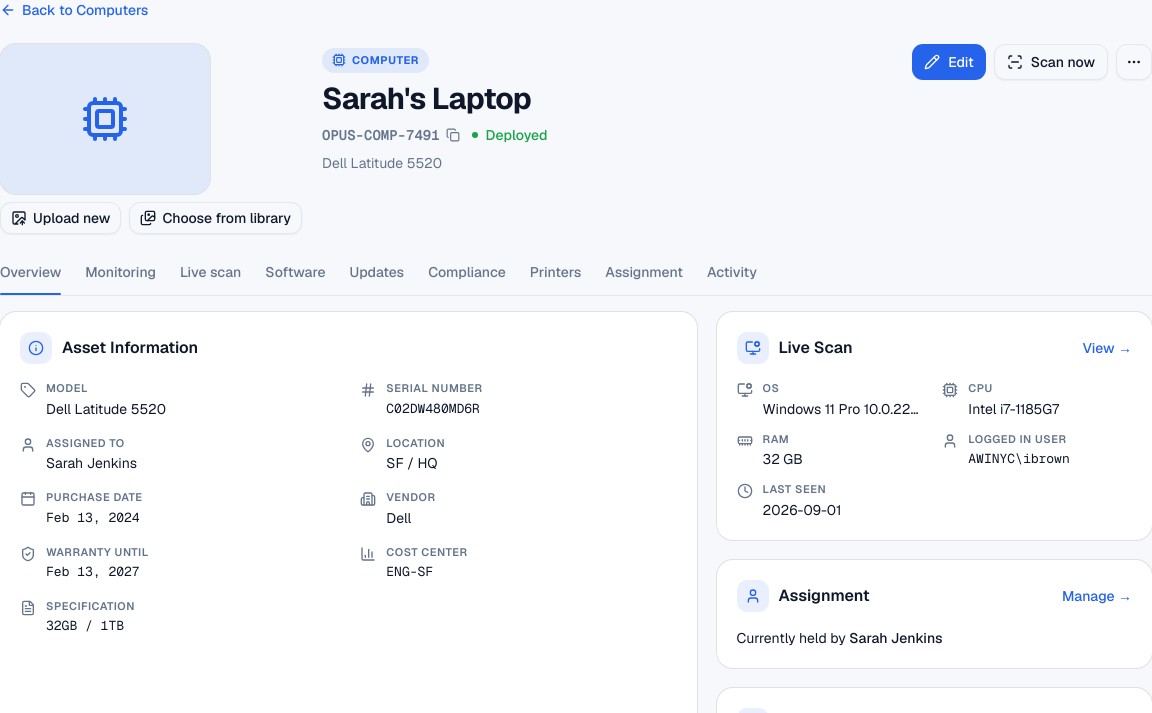
Test: ComputerDetail — tabs + content (AC-4.2, AC-4.3) › queues assist on 202 and shows the polled result
The width and height of the screenshot is (1152, 713).
Click the tab "Monitoring": (121,277) [85,258,156,296]
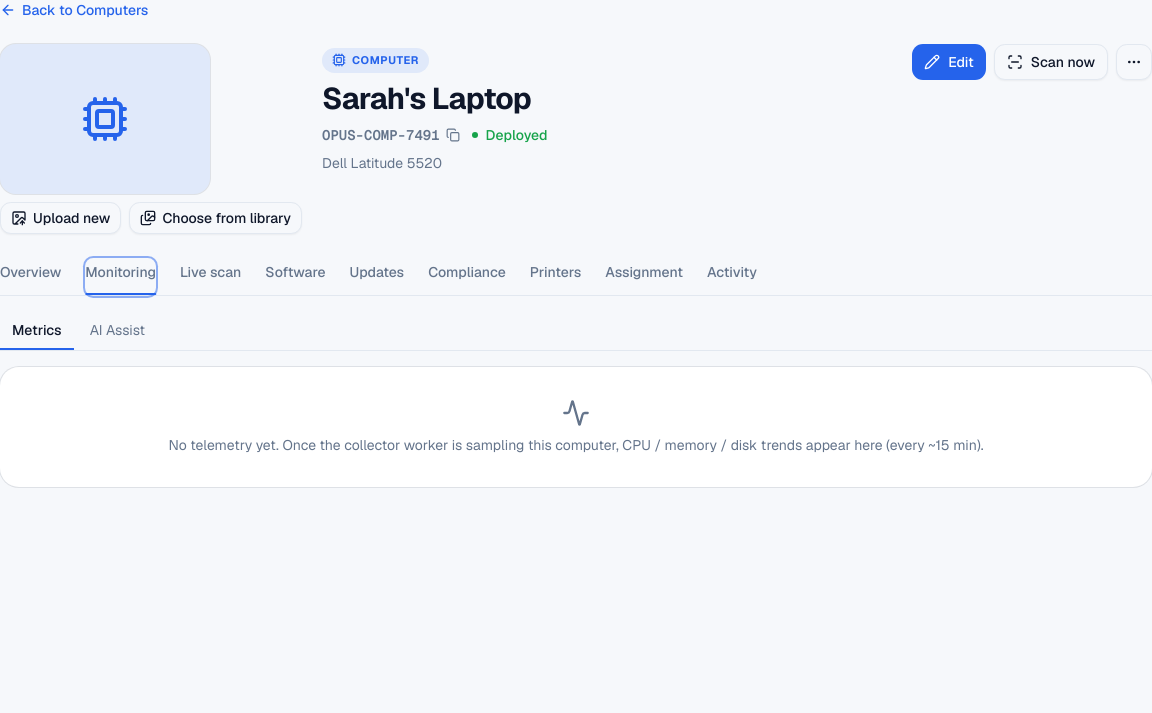
Click the tab "AI Assist": (117,331) [78,312,157,350]
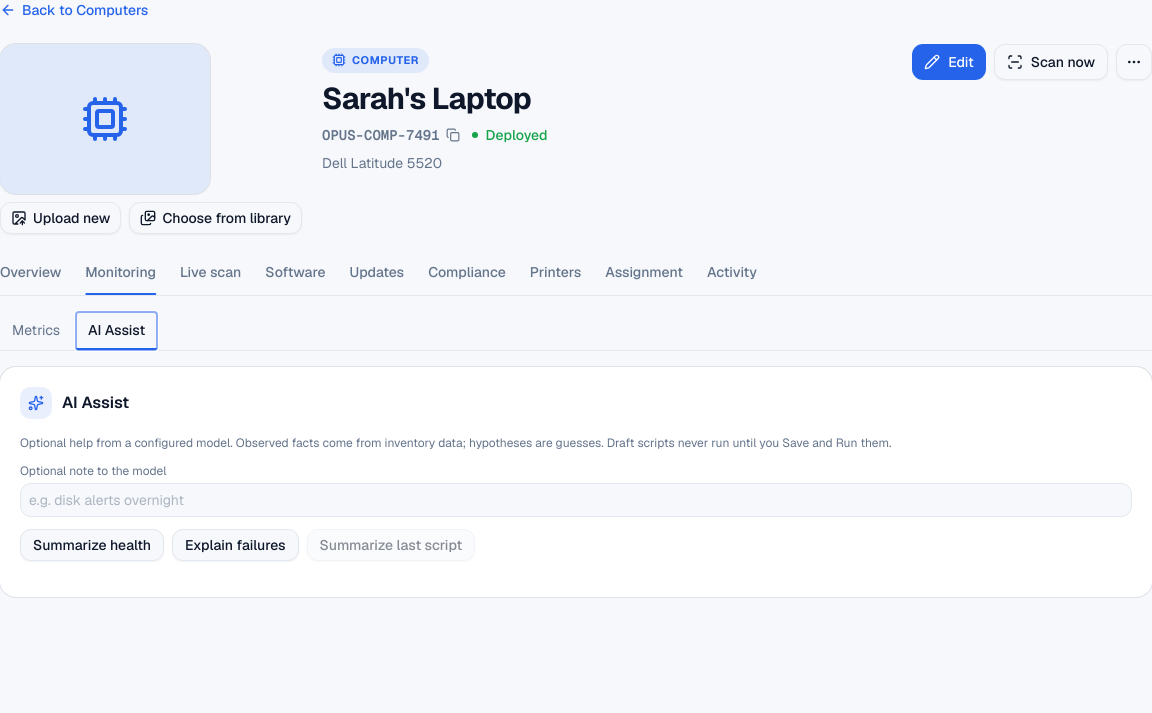
Click the button "Summarize health": (92,545) [20,529,164,561]
(page scrolled)
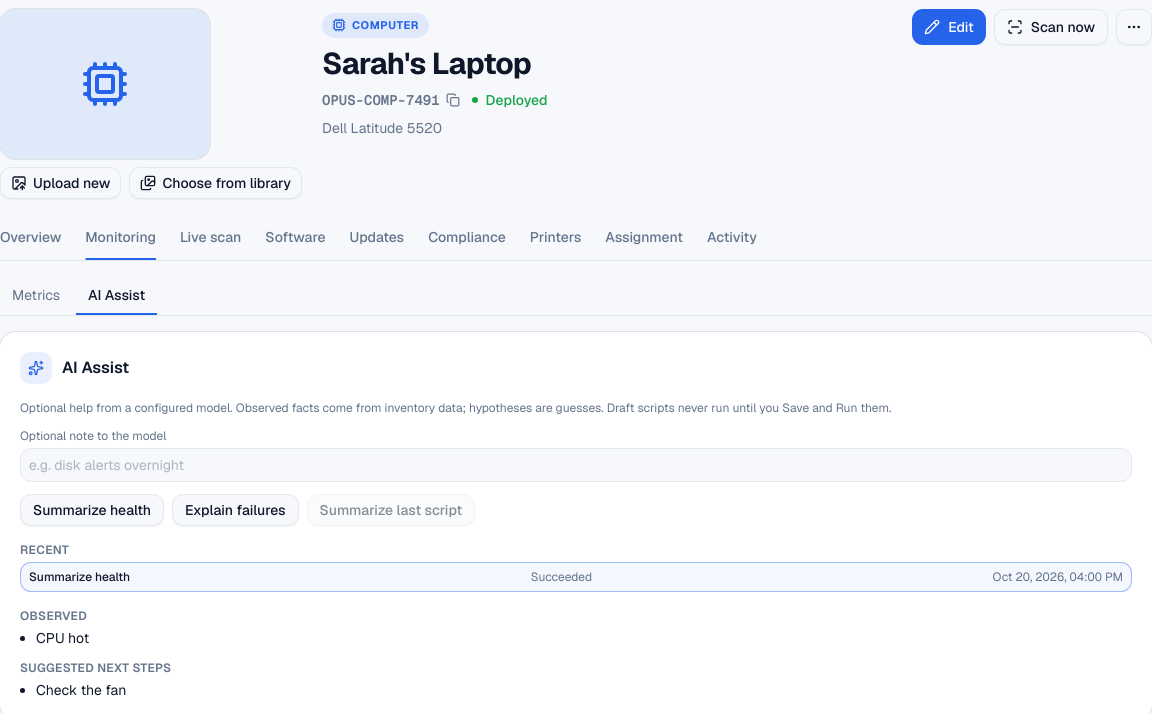
Now the list item "CPU hot" is shown, box [36,629,89,647]
Now the list item "Check the fan" is shown, box [36,681,126,699]
